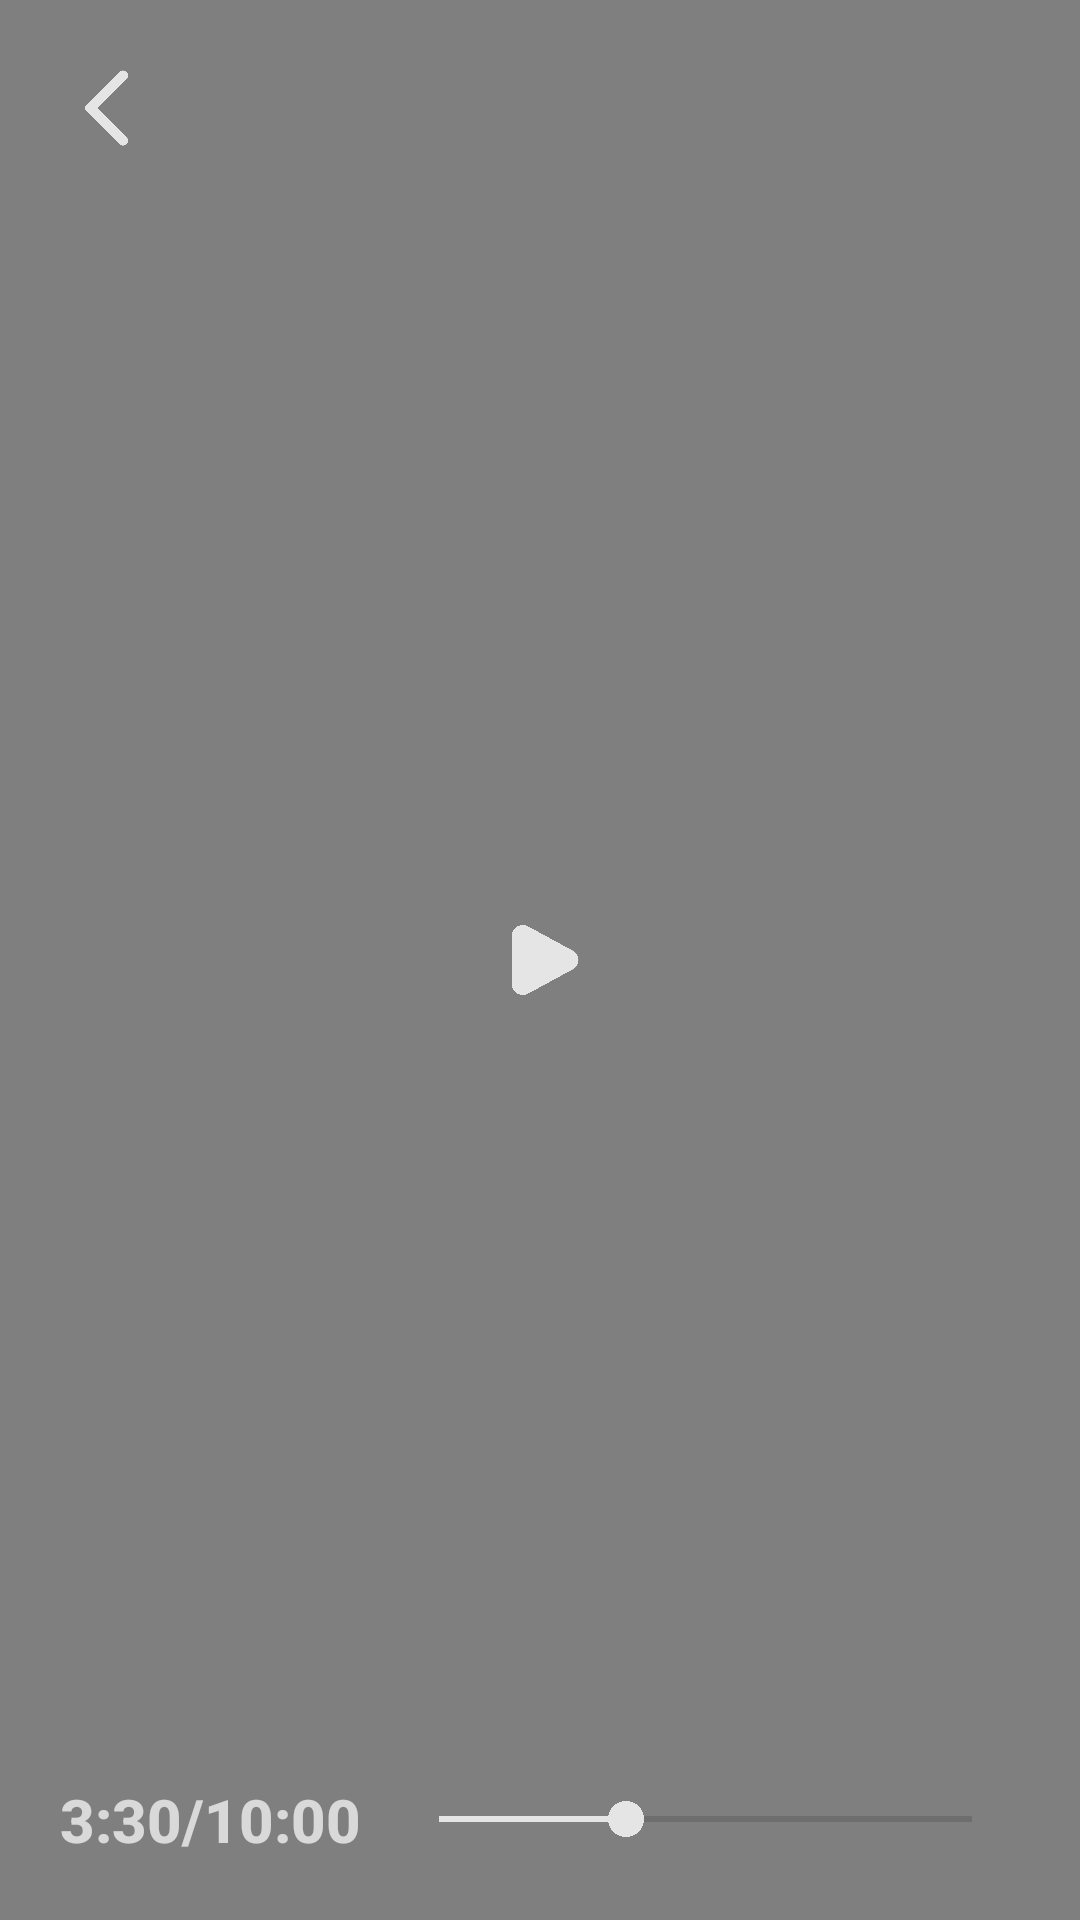

Icons on this 1080px x 1920px Android screen, each with the point to tap as (x,y):
left arrow: (106,108)
play: (545,960)
